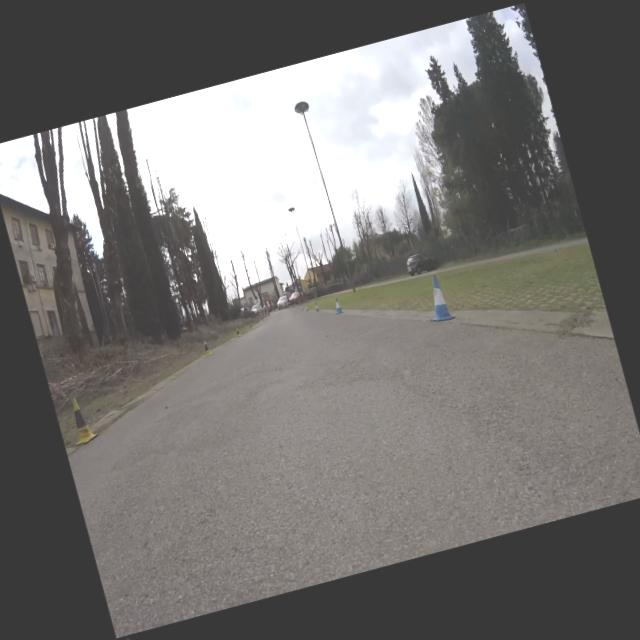blue_cone: (418, 272, 456, 324), (331, 296, 343, 314), (314, 302, 318, 310), (304, 304, 308, 310)
yellow_cone: (63, 393, 99, 445), (200, 338, 212, 356), (234, 326, 240, 336), (248, 322, 252, 328)
